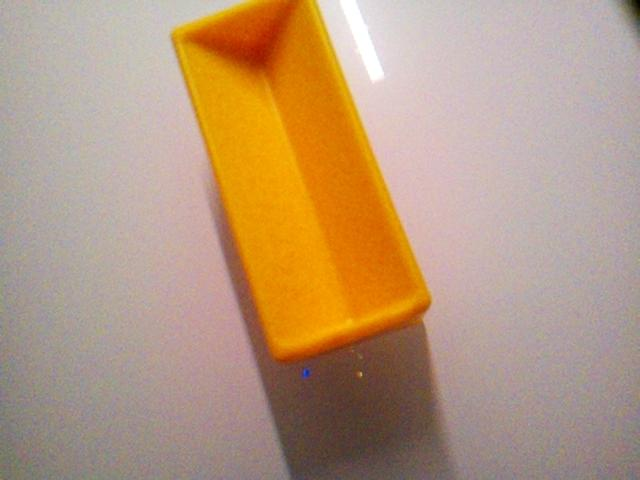yellow: (169, 1, 433, 364)
